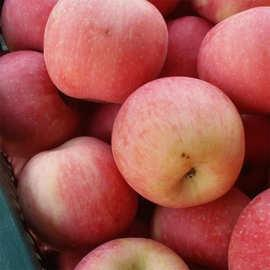apple: (107, 77, 247, 210), (13, 139, 140, 259), (49, 1, 168, 104), (192, 3, 268, 124), (1, 50, 79, 156)
